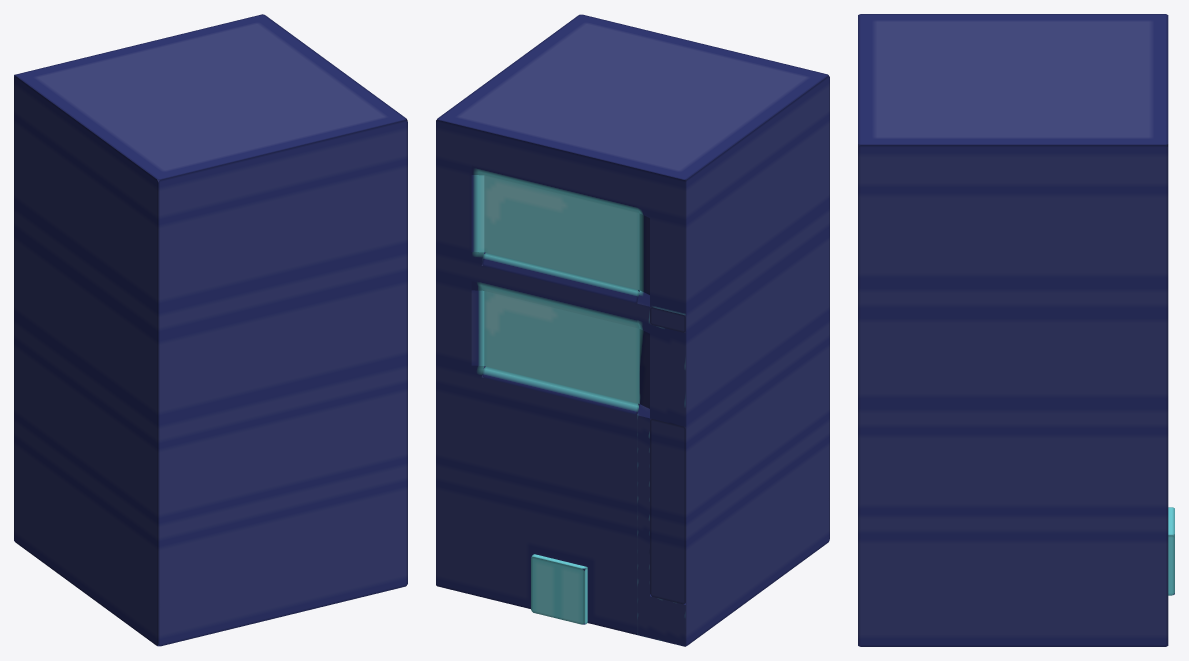
Rendered from building1.fbx.
3 views of the same model, side by side, from view 1: azimuth 30°, elevation 25°; view 2: azimuth 150°, elevation 25°; view 3: azimuth 270°, elevation 25° (orthographic). The views are drawn at different scales.
Visible parts, largest first — view 1: group; view 2: group; view 3: group.
Boxes of the visible parts, x1,y1,x2,y2 form: group: (14, 14, 407, 646); group: (436, 14, 829, 646); group: (858, 14, 1174, 646).
Bounding box in the file's own units: 87.5 × 156 × 89.38.
Materials: 1 (1 with a texture image).
